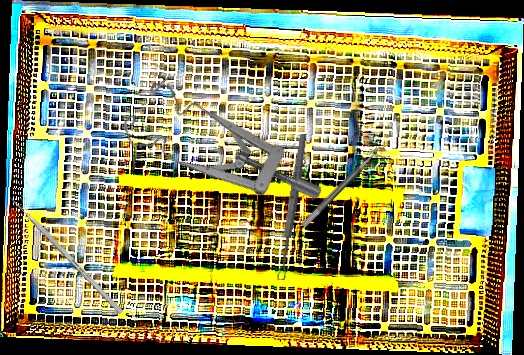Fixation Ring: (300, 143, 392, 235)
Pusher: (2, 189, 125, 315)
Speculum: (109, 45, 327, 268)
Surgical Spoon: (275, 133, 309, 281)
